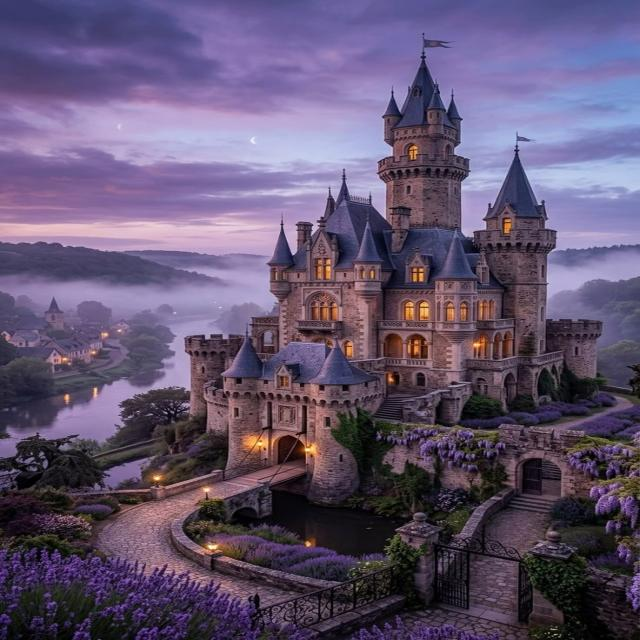castle: (94, 29, 632, 510)
